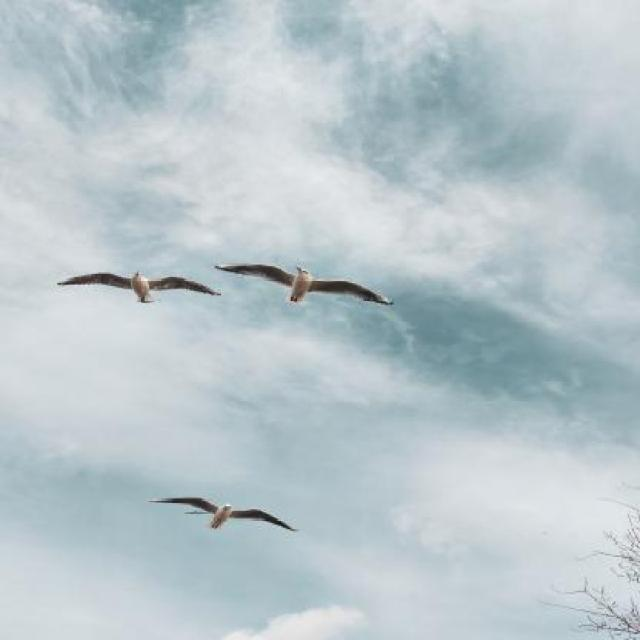bird: (215, 264, 396, 307), (148, 496, 298, 532), (56, 271, 221, 303), (184, 511, 208, 515), (264, 541, 270, 542)
